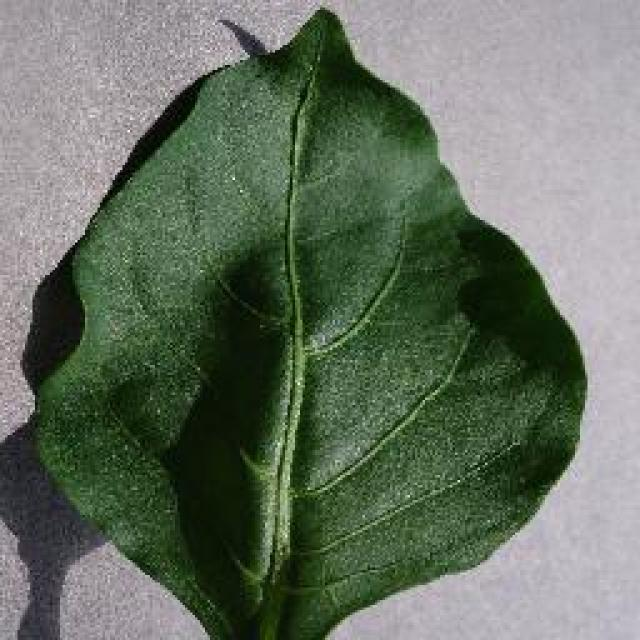Chilli_Healthy: (25, 5, 587, 637)
